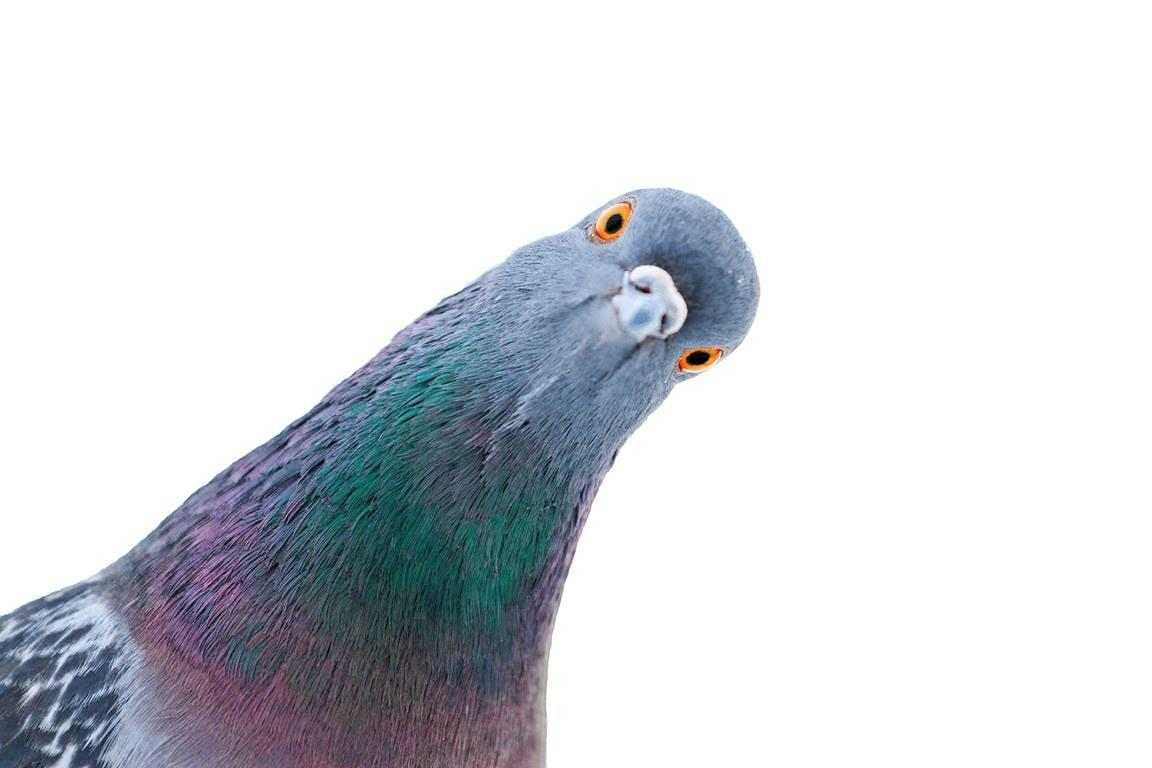Flying Rat: (1, 175, 827, 768)
